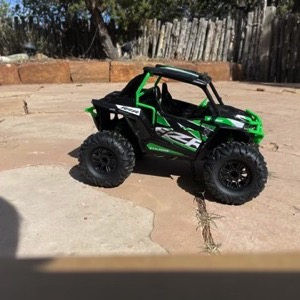polaris: (78, 64, 270, 207)
